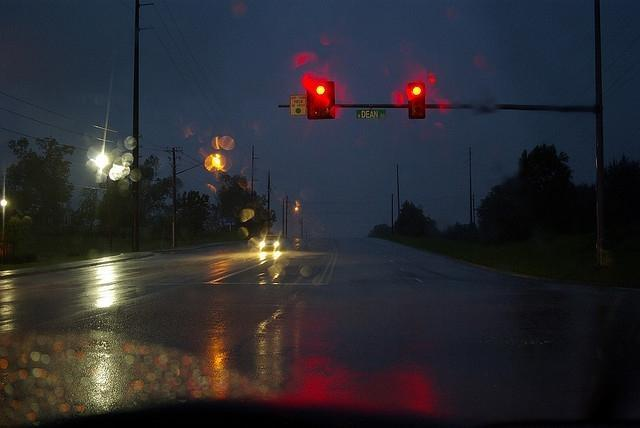car: (261, 235, 285, 250)
